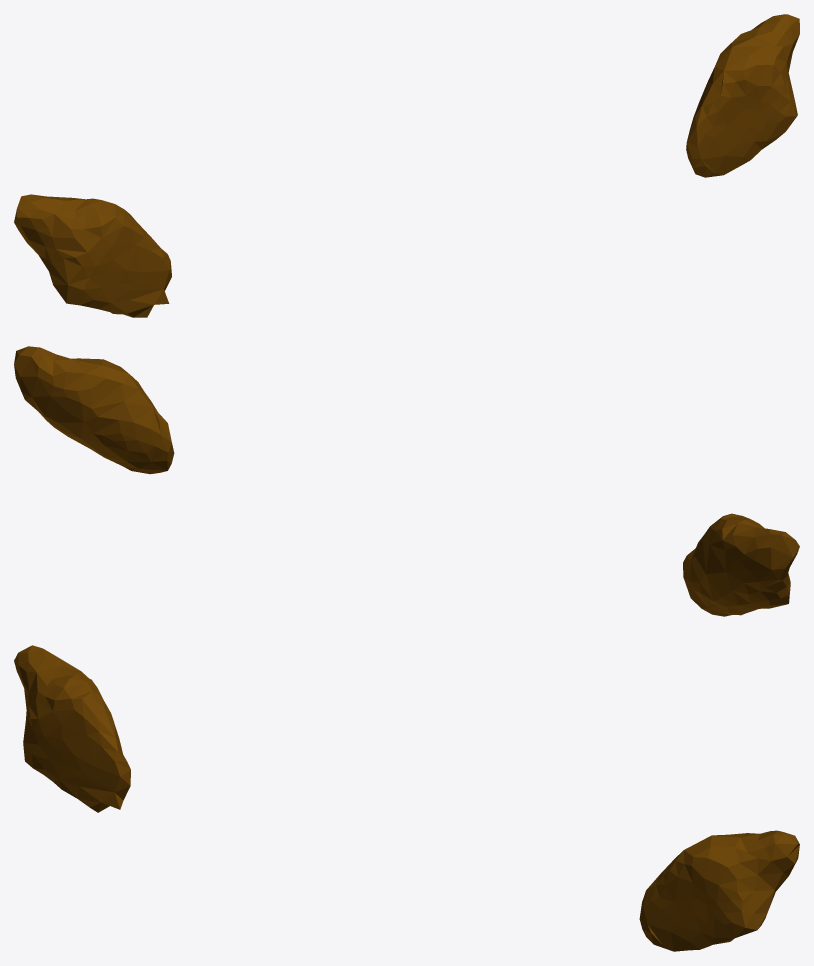
File: 73-9.46-area 9.46 of cortex-('0.4980', '0.3059', '0.0000').obj
3 renders of one model, top to bottom at view 1: azimuth 30°, elevation 25°; view 2: azimuth 150°, elevation 25°; view 3: azimuth 330°, elevation 25°, orthographic.
Bounding box in the file's own units: 229 × 34.35 × 18.59.
